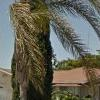Palm tree: (9, 4, 69, 86)
